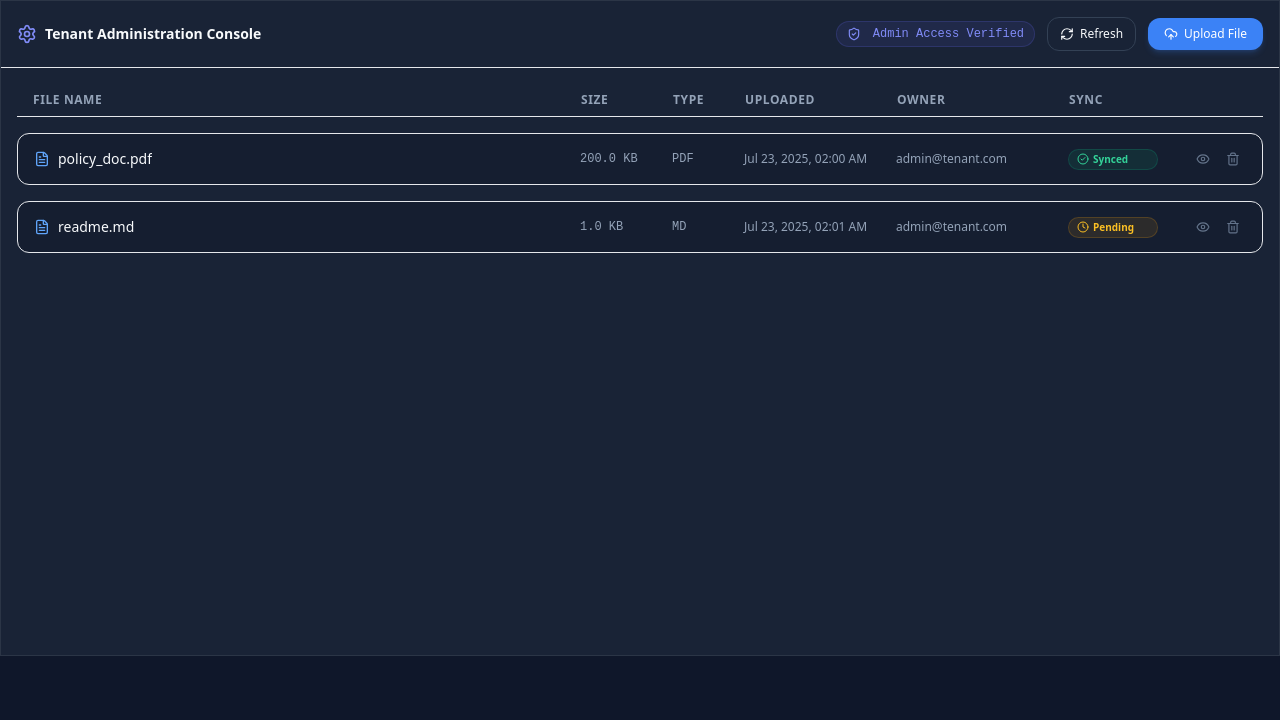
ManagementPage Component › downloads and renders non-markdown preview content as text
The width and height of the screenshot is (1280, 720).
Expected: the text "policy_doc.pdf" is shown, [58, 149, 152, 169]
Click the button with test id "preview-file-100001": (1203, 159) [1190, 146, 1216, 172]
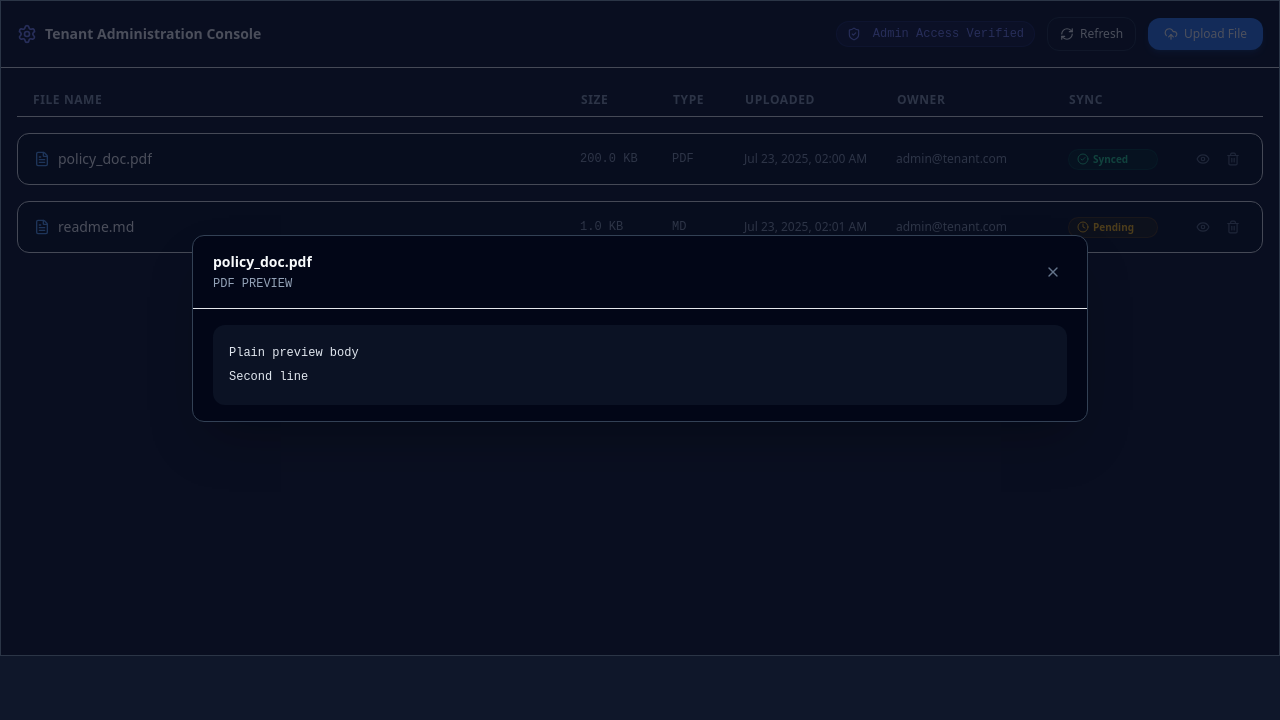
Now the text with test id "text-preview-content" shows "Plain preview body", box [229, 346, 359, 384]
